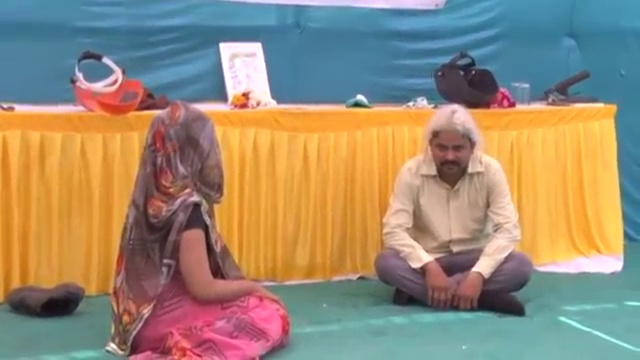helmet_off: (141, 102, 222, 201), (428, 106, 478, 179)
person: (110, 100, 291, 360), (374, 102, 535, 318)
